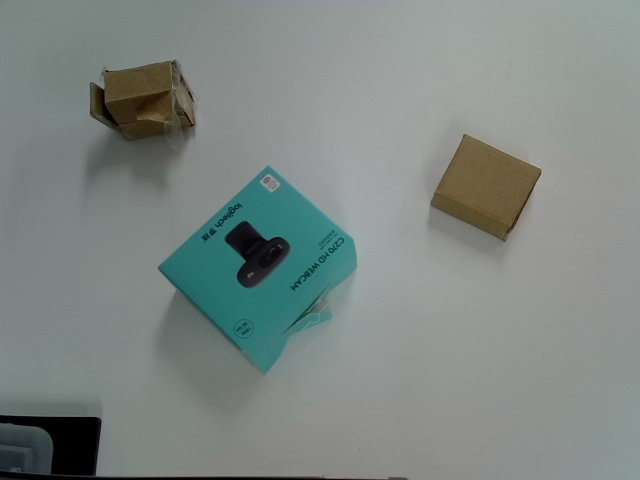defect: (90, 59, 195, 143)
normal: (431, 134, 543, 240)
